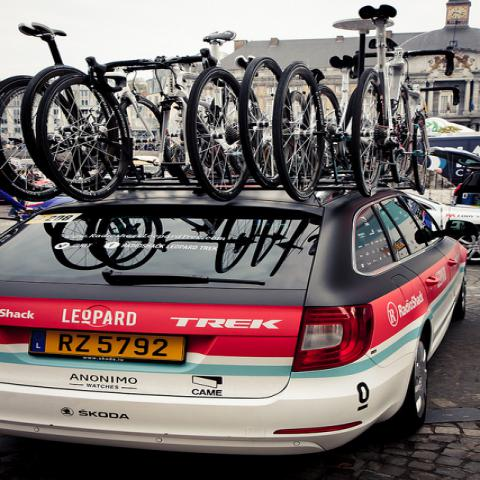car: (0, 190, 476, 453), (403, 190, 479, 243)
